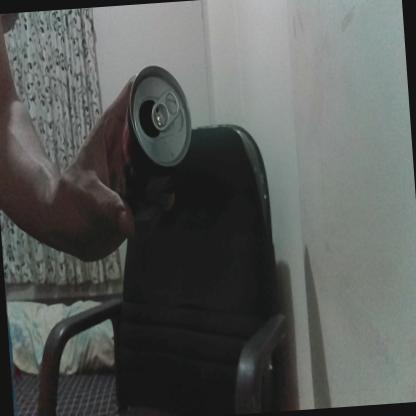alumunium_can: (106, 58, 194, 200)
